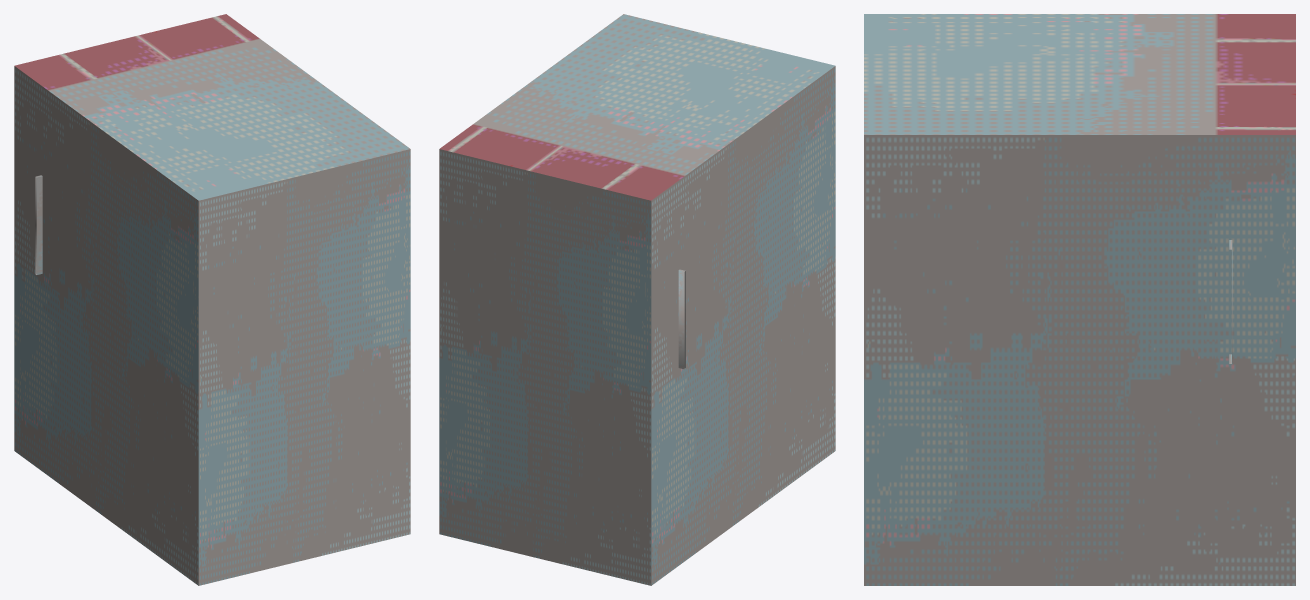
3 renders of one model, left to right at view 1: azimuth 30°, elevation 25°; view 2: azimuth 150°, elevation 25°; view 3: azimuth 270°, elevation 25°, orthographic. The views are drawn at different scales.
Parts seen in each view (by area): view 1: Cube.002, Cube; view 2: Cube.002, Cube; view 3: Cube.002.
Part boxes in pixels (x1,y1,x2,y2): Cube.002: [14, 14, 410, 585]; Cube: [35, 175, 42, 274]; Cube.002: [439, 14, 835, 585]; Cube: [678, 269, 685, 369]; Cube.002: [864, 14, 1295, 585].
Size of the model in its own units: 1852 by 2899 by 2516.
Materials: 5 (4 with a texture image).
